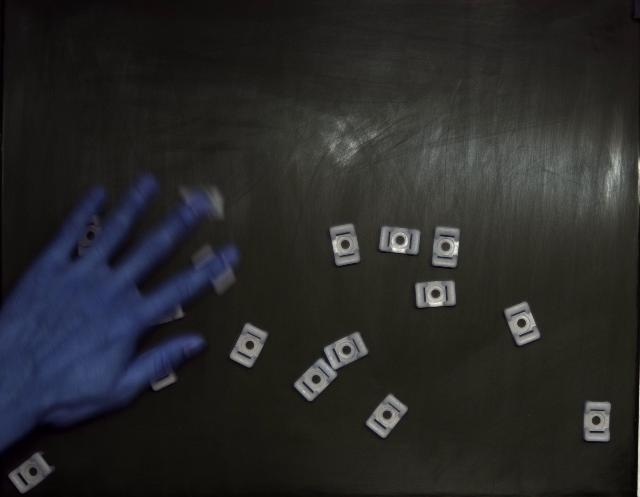first_side: (9, 452, 55, 494), (366, 394, 408, 439), (294, 359, 338, 401), (230, 324, 269, 369), (324, 332, 369, 370), (504, 302, 540, 346), (330, 224, 360, 266), (431, 226, 460, 269), (379, 226, 420, 255), (415, 281, 456, 309), (582, 401, 610, 442)
